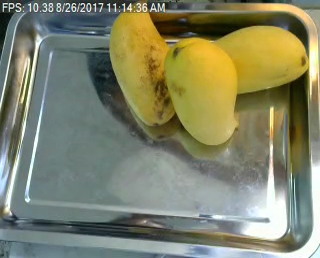Mango: (109, 0, 179, 125), (164, 38, 237, 144), (203, 26, 309, 96)
